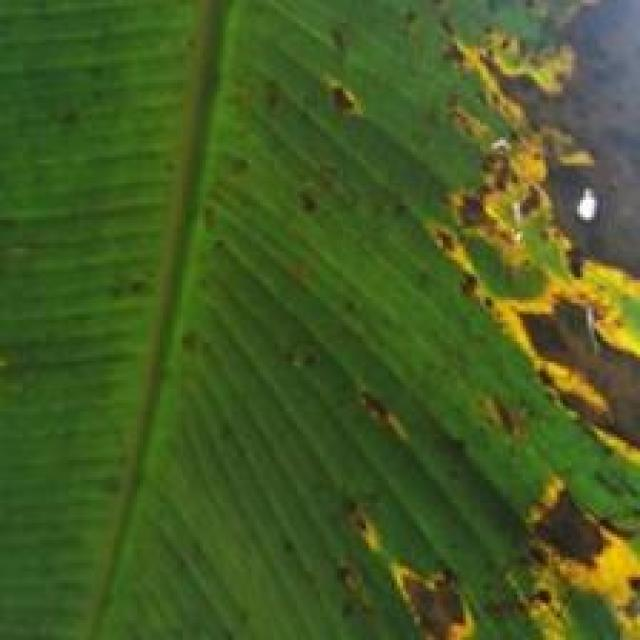Downey_mildrew: (254, 1, 640, 640)
